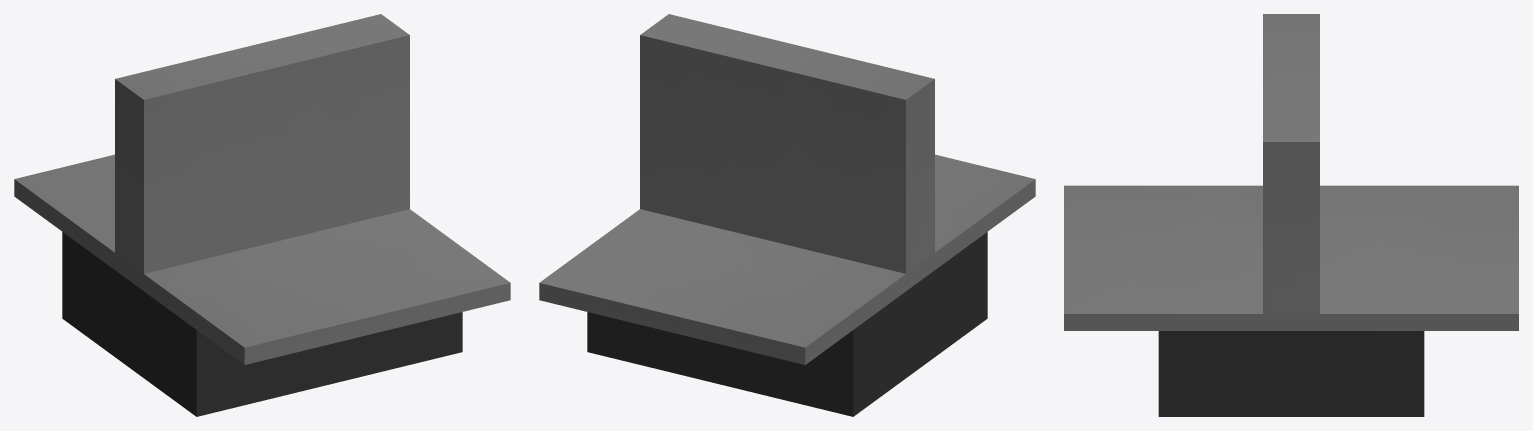
Rendered from dc_metro_bench_2.obj.
3 renders of one model, left to right at view 1: azimuth 30°, elevation 25°; view 2: azimuth 150°, elevation 25°; view 3: azimuth 270°, elevation 25°, orthographic.
Parts seen in each view (by area): view 1: cube; view 2: cube; view 3: cube.
Boxes of the visible parts, left/top/right/bottom form: cube: left=14, top=14, right=510, bottom=416; cube: left=539, top=14, right=1035, bottom=416; cube: left=1064, top=14, right=1518, bottom=416.
Size of the model in its own units: 1 by 1 by 1.5.
2 materials, 2 textured.
